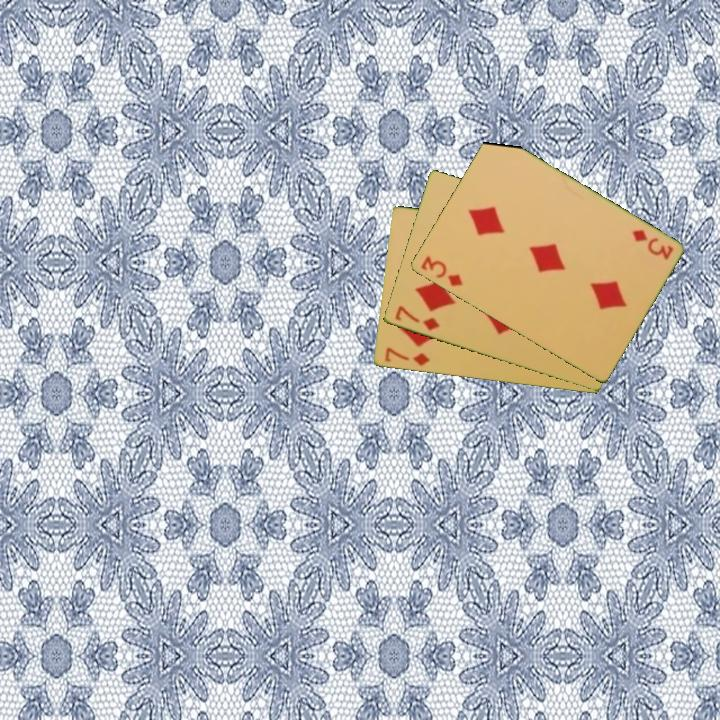3d: (417, 252, 466, 289), (628, 226, 676, 263)
7d: (391, 302, 442, 334), (381, 344, 432, 369)
